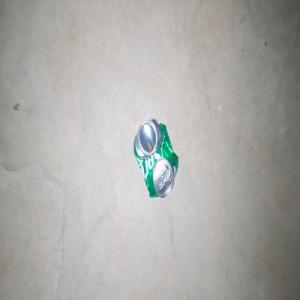SodaCan: (132, 117, 178, 198)
